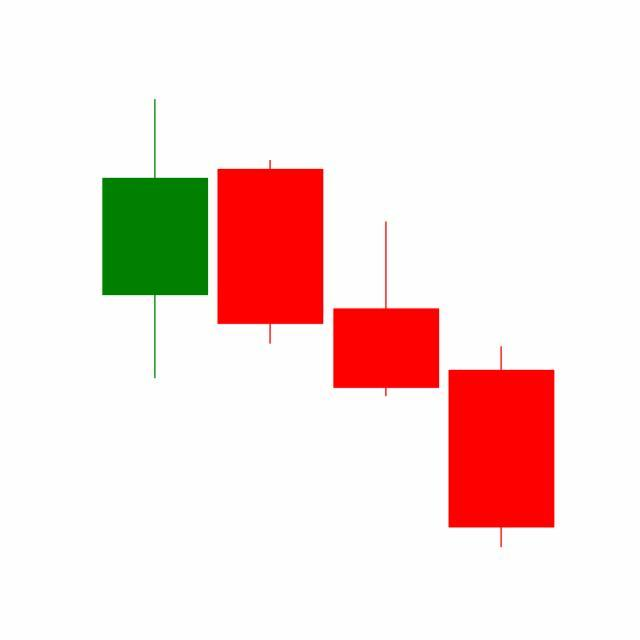Three Black Crows: (211, 156, 555, 548)
